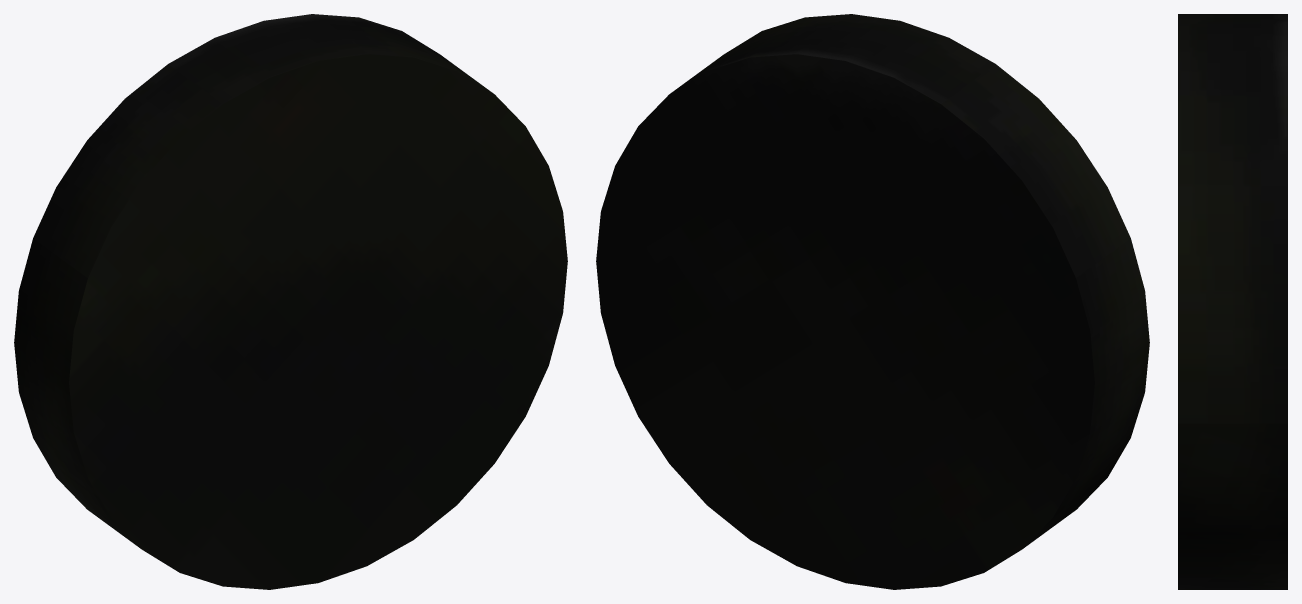
Rendered from start_button_2__button_plunger.glb.
The picture shows the model from 3 angles, left to right: view 1: azimuth 30°, elevation 25°; view 2: azimuth 150°, elevation 25°; view 3: azimuth 270°, elevation 25°; orthographic projection.
Visible parts, largest first — view 1: geometry_0; view 2: geometry_0; view 3: geometry_0.
Part boxes in pixels (<box>): geometry_0: <box>14,14,567,589</box>; geometry_0: <box>596,14,1149,589</box>; geometry_0: <box>1178,14,1287,589</box>.
Size of the model in its own units: 0.042 by 0.042 by 0.008.
Materials: 1 (1 with a texture image).
